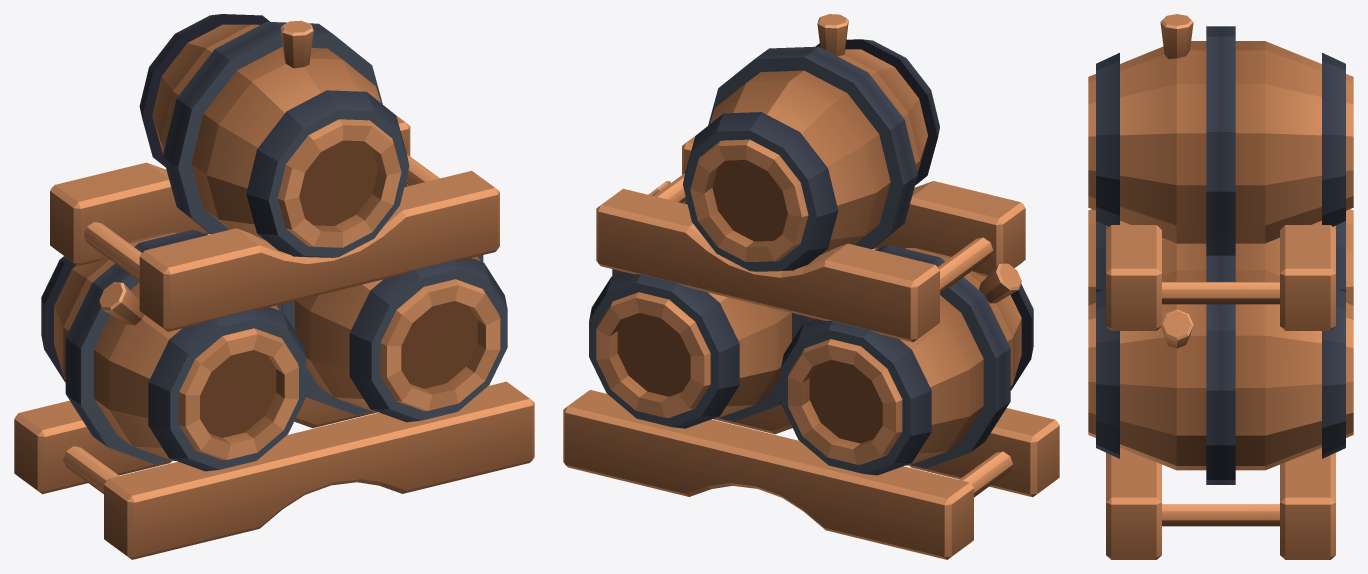
File: mt_prop_barell03.fbx
3 renders of one model, left to right at view 1: azimuth 30°, elevation 25°; view 2: azimuth 150°, elevation 25°; view 3: azimuth 270°, elevation 25°, orthographic. The views are drawn at different scales.
Visible parts, largest first — view 1: prop_barel02; view 2: prop_barel02; view 3: prop_barel02.
Part boxes in pixels (<box>): prop_barel02: <box>14,14,534,559</box>; prop_barel02: <box>563,14,1059,559</box>; prop_barel02: <box>1088,14,1353,559</box>.
Bounding box in the file's own units: 175 × 189 × 102.
